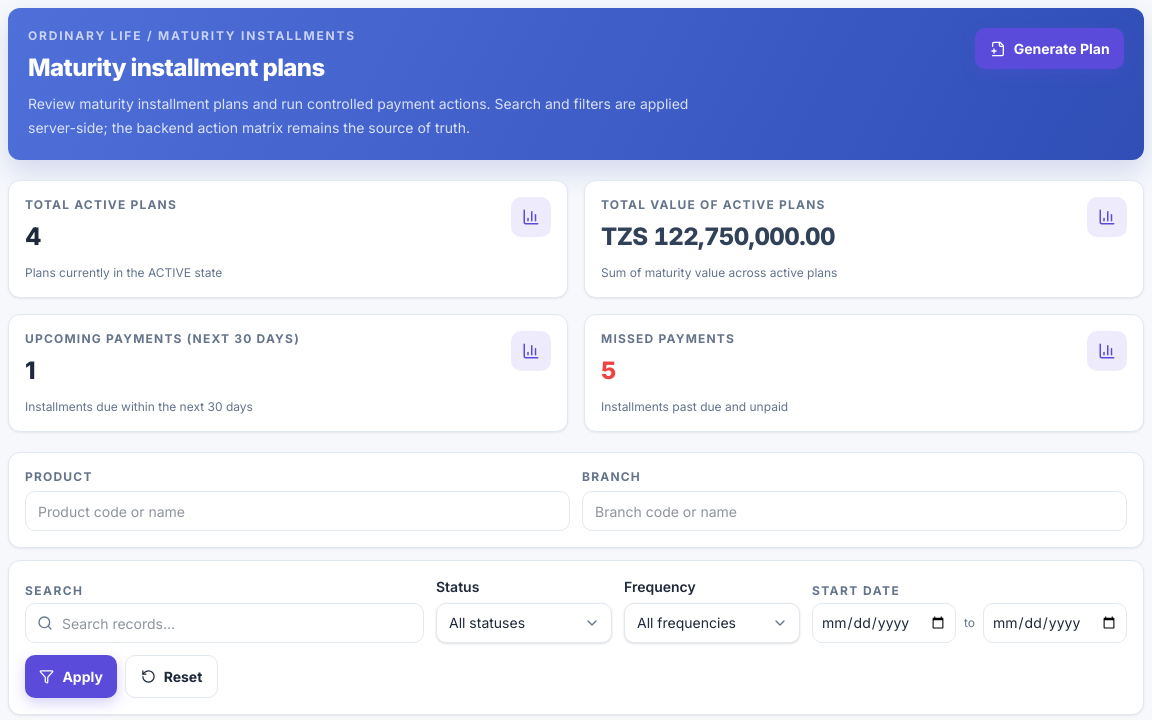
Test: OL Maturity Installments Generate Plan wizard (Prompt 7) › filters the policy search to matured policies only
The image size is (1152, 720).
Click the button "Generate Plan" at (1050, 48), box [975,28,1124,69]
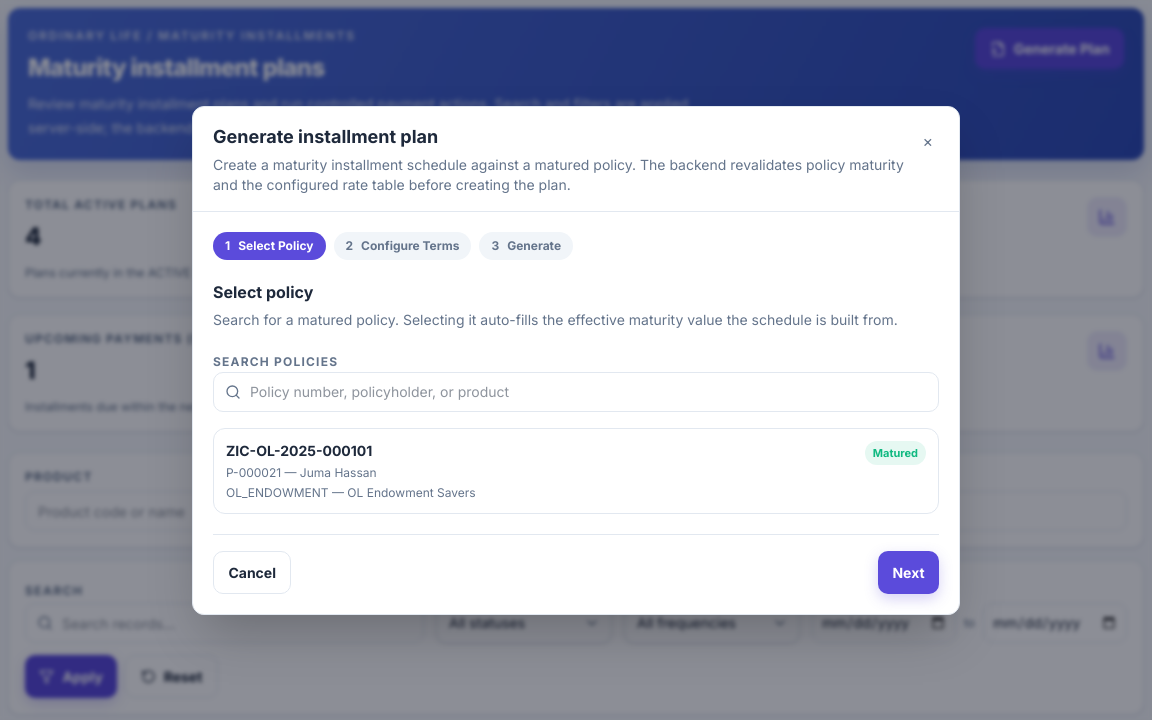
Check: the heading "Select policy" is shown, box [213,282,313,302]
Check: the text "ZIC-OL-2025-000101" is shown, box [226,442,372,458]
Type "ZIC-OL-2026-000001" into the field labelled "Search policies" at (576, 392), box [213,372,939,412]
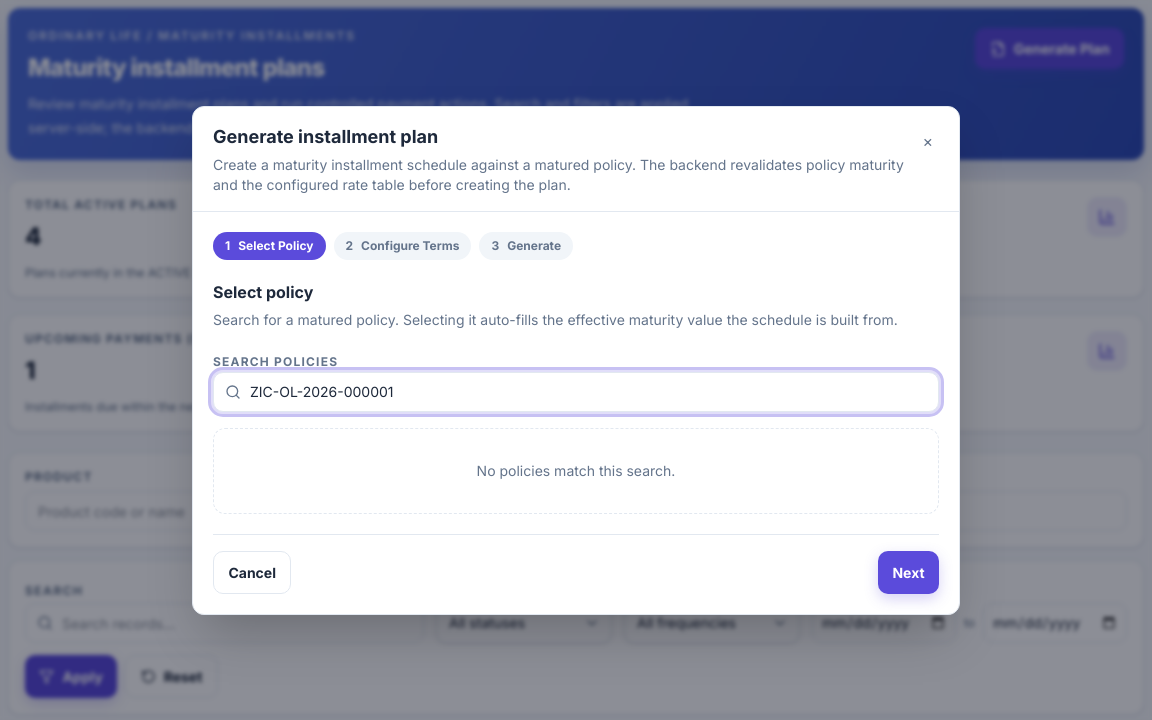
Check: the text "No policies match this search." is shown, box [213,428,939,514]
